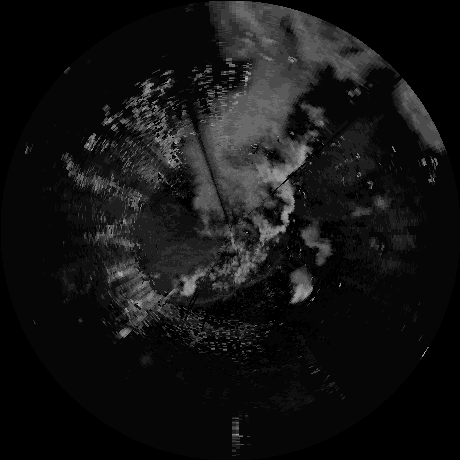frontgust: (180, 291, 227, 308), (245, 265, 277, 289)
